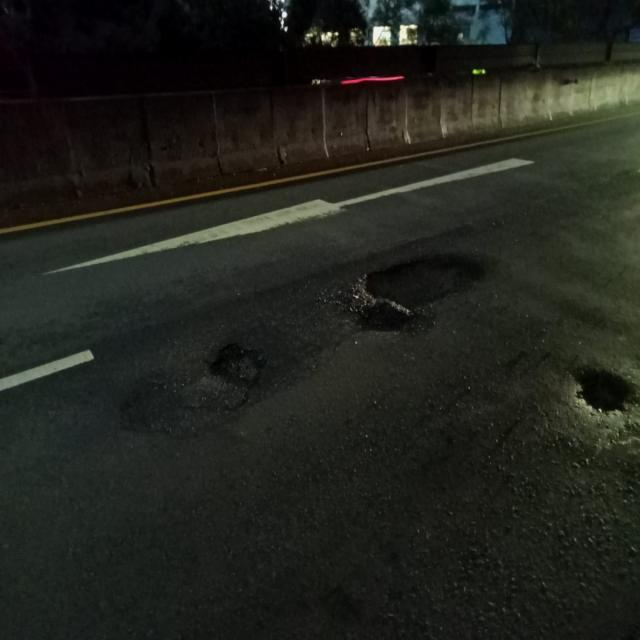Buraco: (334, 250, 492, 336), (566, 362, 640, 417), (199, 339, 272, 393)
